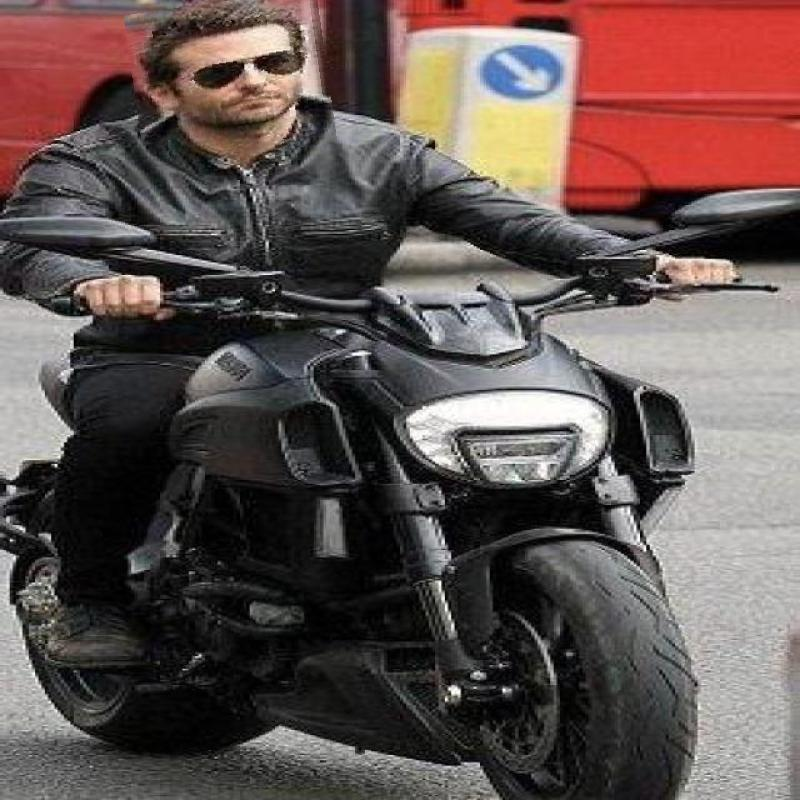nohelmet: (129, 0, 332, 161)
